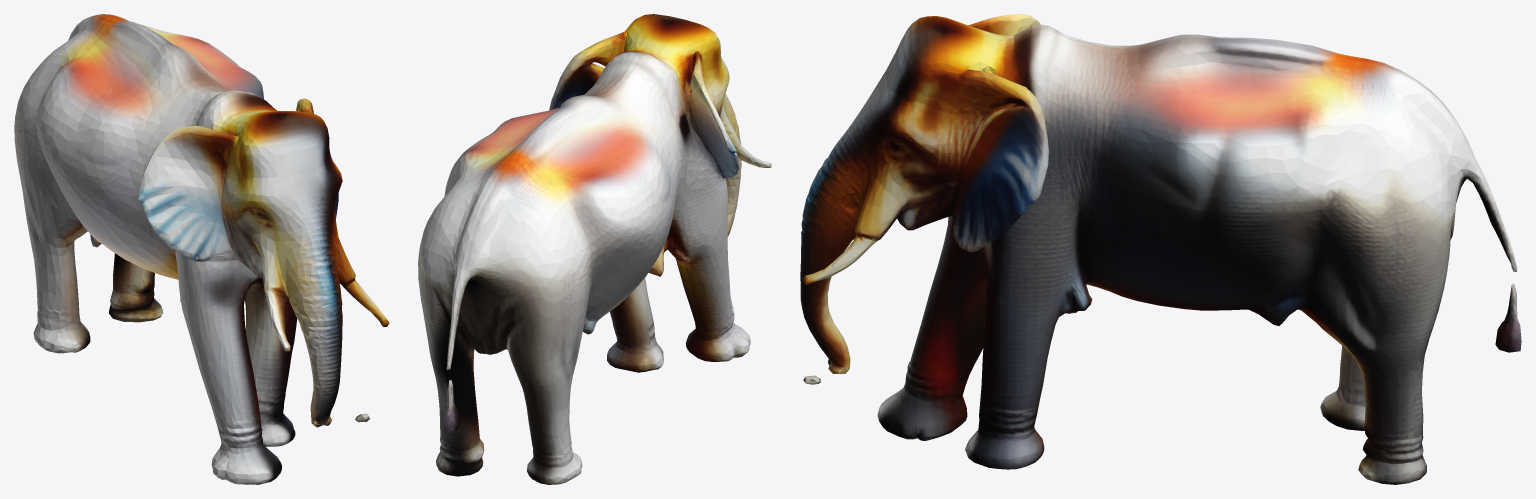
Rendered from prueba.glb.
The picture shows the model from 3 angles, left to right: view 1: azimuth 30°, elevation 25°; view 2: azimuth 150°, elevation 25°; view 3: azimuth 270°, elevation 25°; orthographic projection. The views are drawn at different scales.
Visible parts, largest first — view 1: world; view 2: world; view 3: world.
Part boxes in pixels (left/top/right/bottom): world: left=14, top=14, right=389, bottom=484; world: left=418, top=14, right=771, bottom=484; world: left=800, top=14, right=1521, bottom=484.
Bounding box in the file's own units: 0.3951 × 0.6462 × 1.
1 material, 1 textured.
